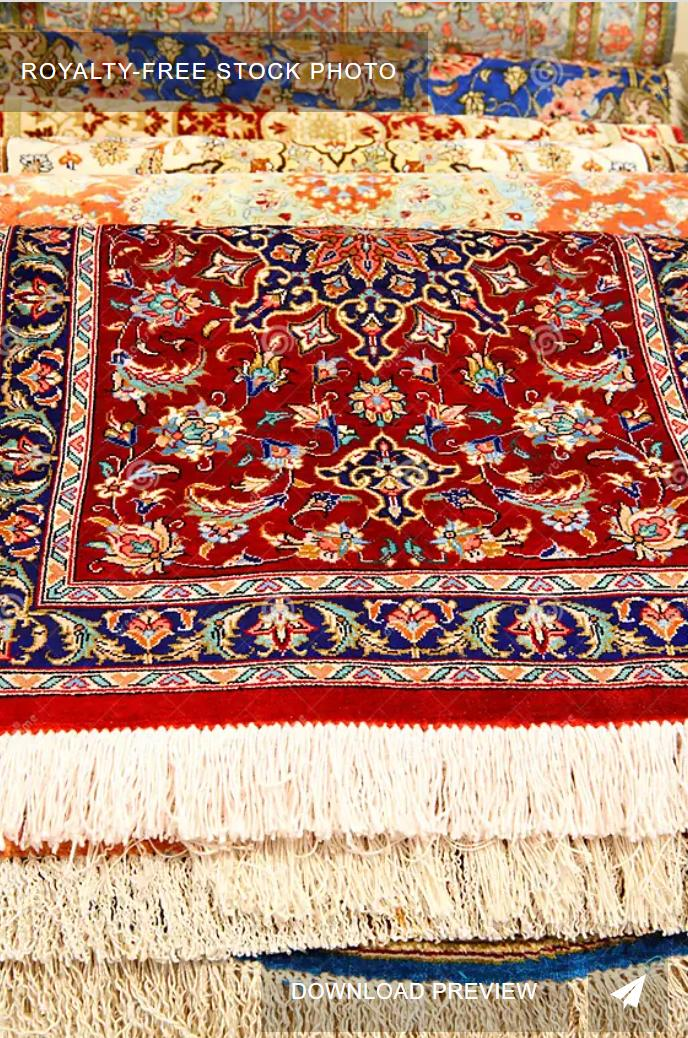carpet: (0, 225, 687, 847), (0, 169, 687, 236)
